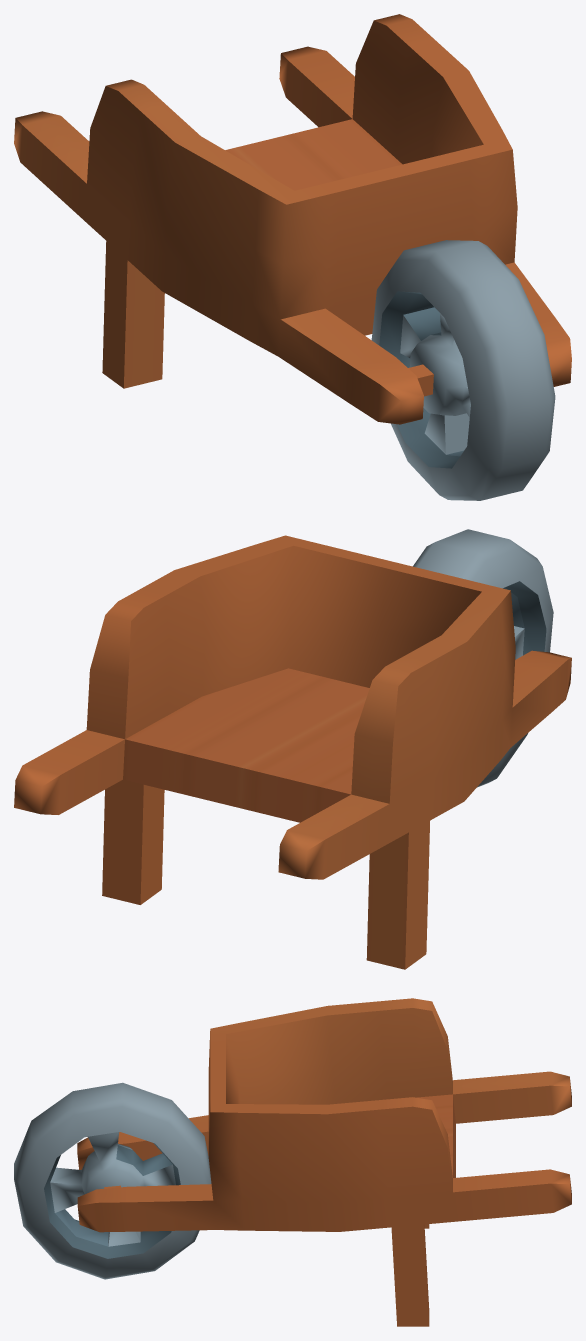
Rendered from Wheelbarrow.fbx.
3 views of the same model, one above another, from view 1: azimuth 30°, elevation 25°; view 2: azimuth 150°, elevation 25°; view 3: azimuth 270°, elevation 25° (orthographic). The views are drawn at different scales.
Visible parts, largest first — view 1: Wheelbarrow, Wheel; view 2: Wheelbarrow, Wheel; view 3: Wheelbarrow, Wheel.
Boxes of the visible parts, <box> form: Wheelbarrow: <box>14,14,571,424</box>; Wheel: <box>371,240,555,500</box>; Wheelbarrow: <box>14,535,571,969</box>; Wheel: <box>413,529,553,787</box>; Wheelbarrow: <box>77,998,571,1326</box>; Wheel: <box>14,1082,211,1279</box>.
Size of the model in its own units: 78.28 by 71.43 by 165.
